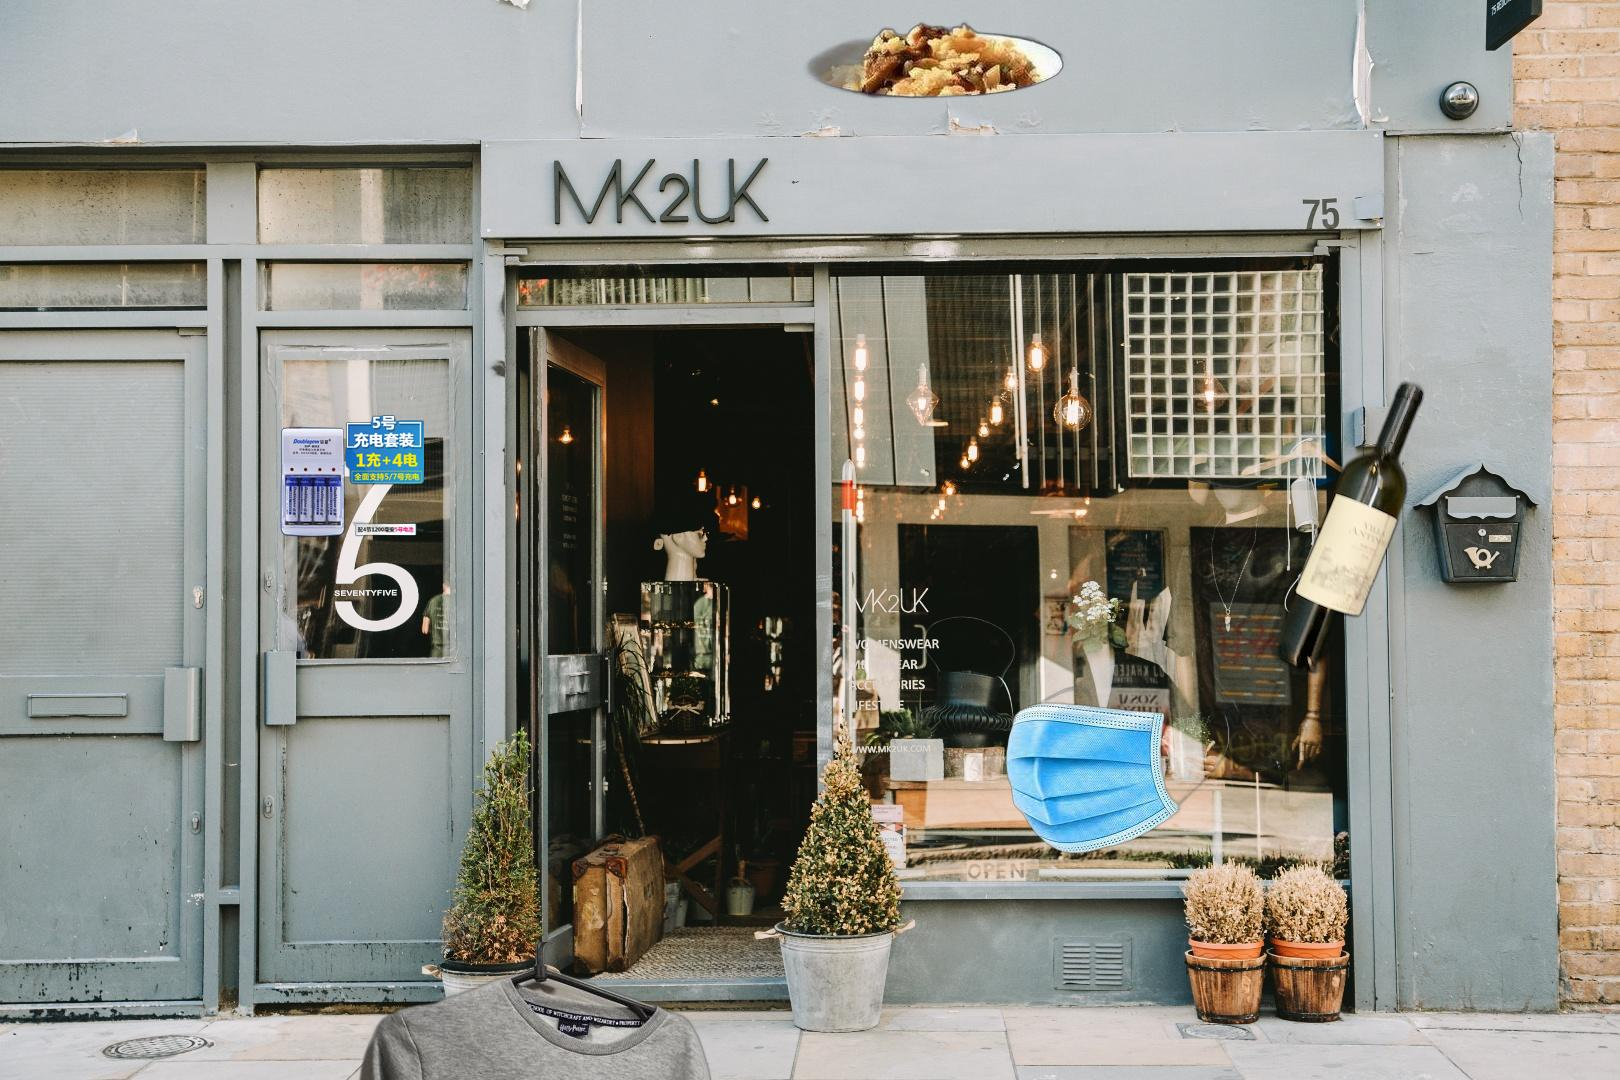battery: (278, 410, 424, 540)
biological: (802, 19, 1070, 171)
clothes: (354, 943, 716, 1080)
glass: (1266, 376, 1428, 679)
trash: (1005, 683, 1229, 856)
